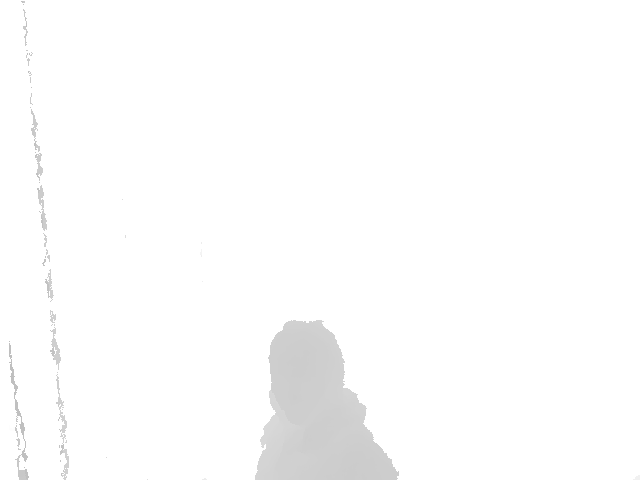head: (268, 318, 345, 425)
person: (256, 318, 400, 480)
